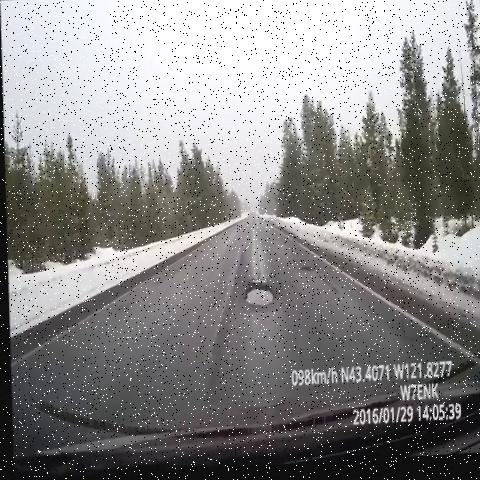pothole: (234, 269, 281, 327), (292, 258, 319, 283)
